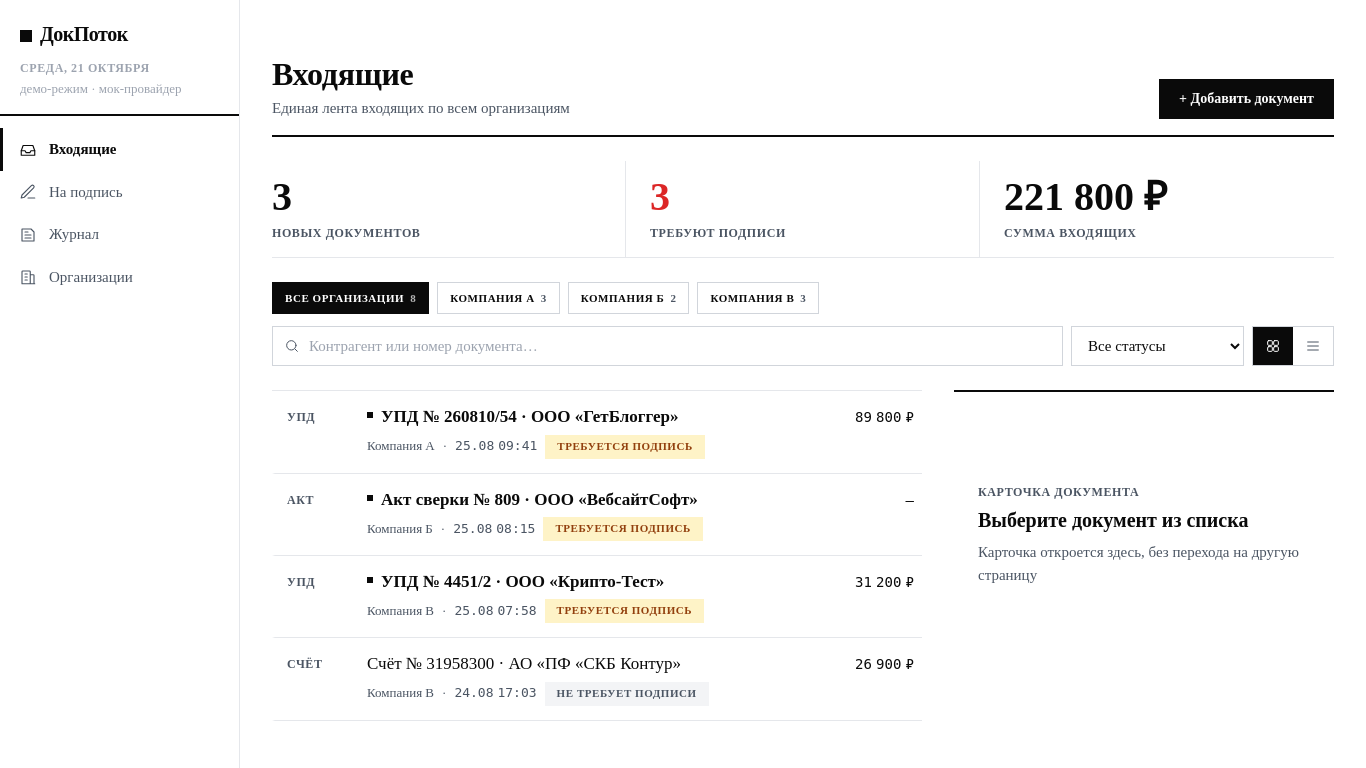
it: Лента документов (US-2) › поиск сужает список, а сброс фильтров возвращает всё
Expected: the text "УПД № 260810/54 · ООО «ГетБлоггер»" is shown, 381,405 -> 678,429
Type "клауд" into the search field named "Поиск".
click(668, 346); type("клауд")  # box 272,326 -> 1063,366
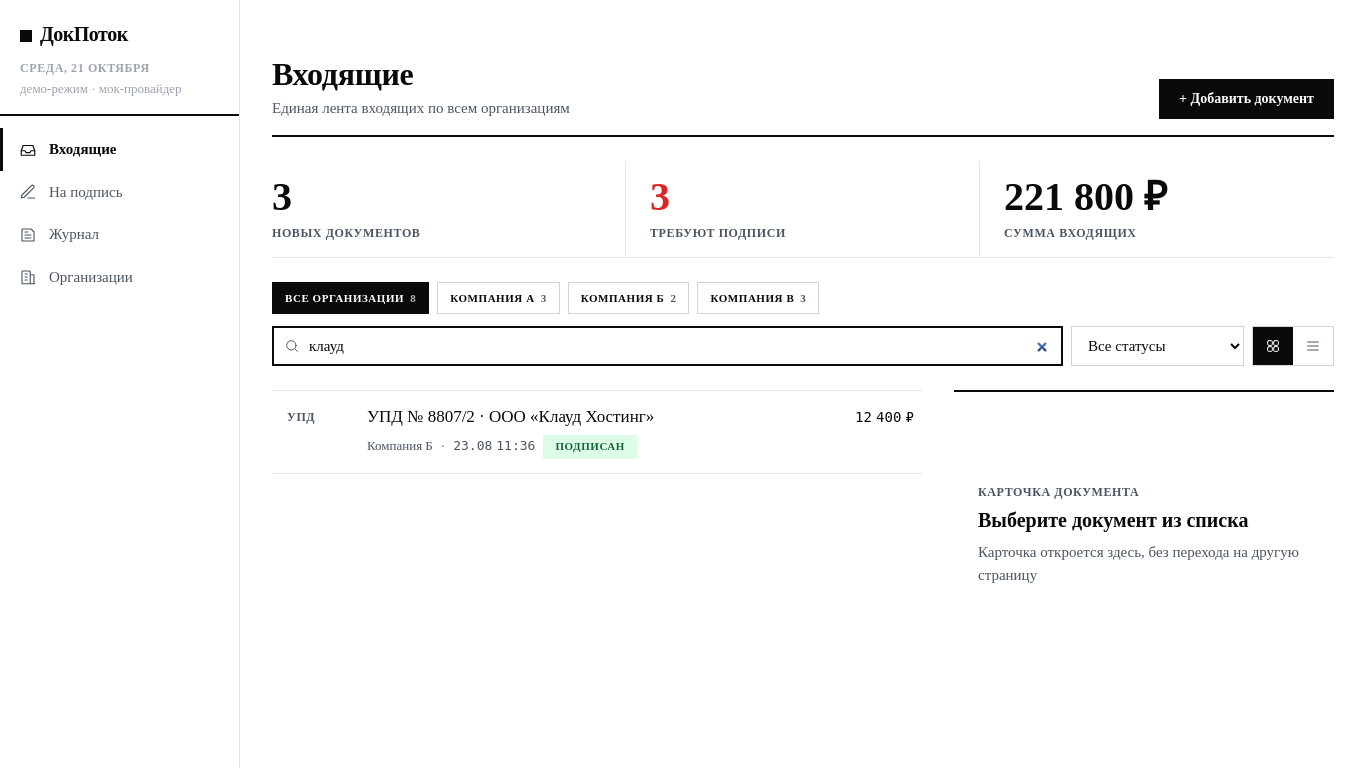
Expected: the text "УПД № 8807/2 · ООО «Клауд Хостинг»" is shown, 367,405 -> 654,429
Expected: the button "ГетБлоггер" is gone
Replace the text in the search field named "Поиск" with "такого-нет" at (668, 346), box 272,326 -> 1063,366
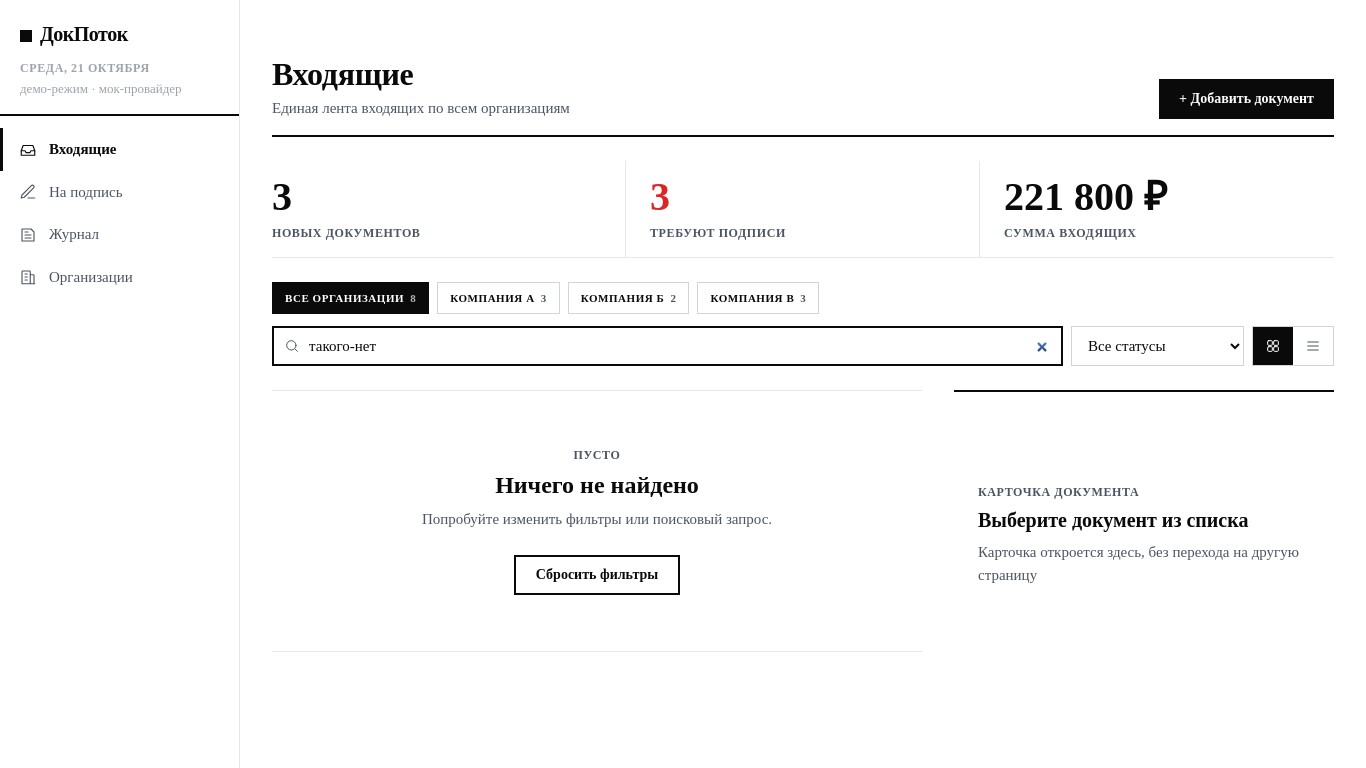
Expected: the text "Ничего не найдено" is shown, 495,472 -> 699,498
Click the button "Сбросить фильтры".
click(597, 575)  # box 514,555 -> 680,595
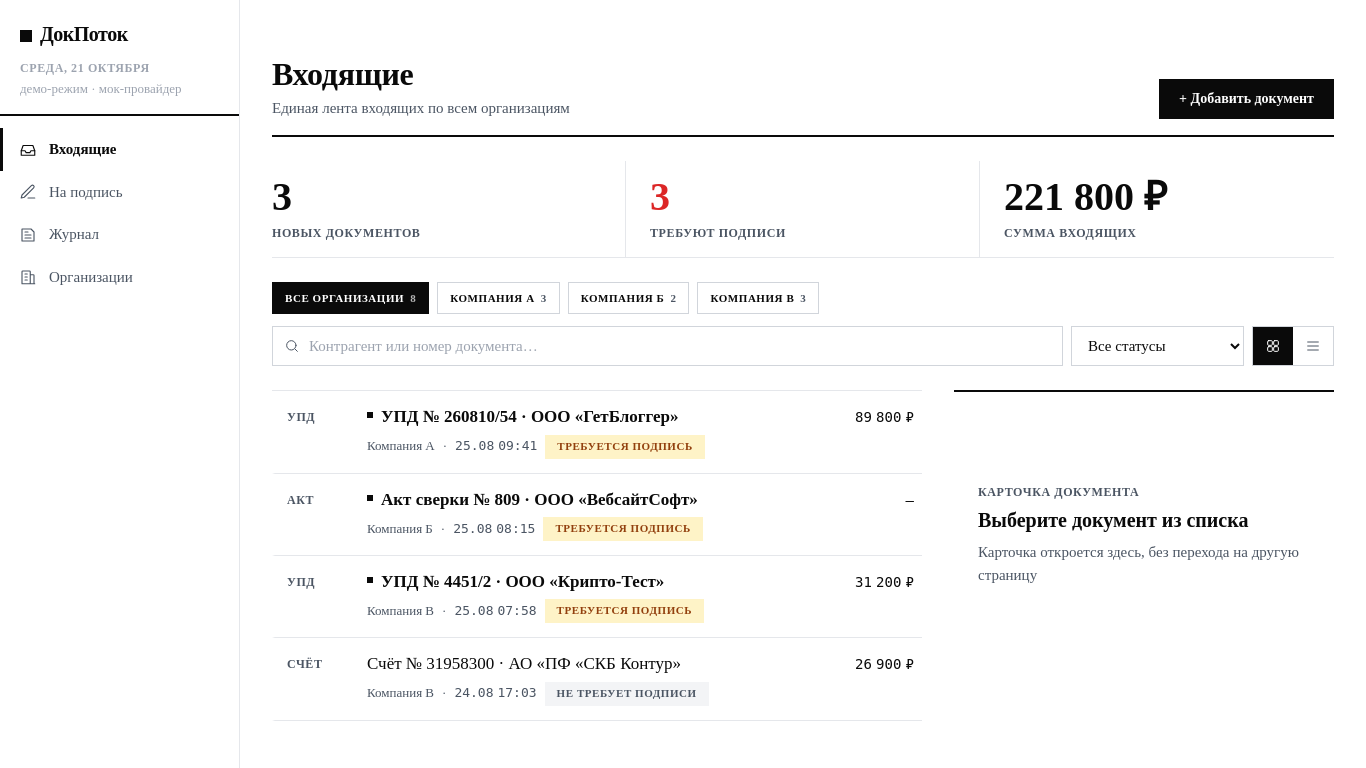
Expected: the text "УПД № 260810/54 · ООО «ГетБлоггер»" is shown, 381,405 -> 678,429
